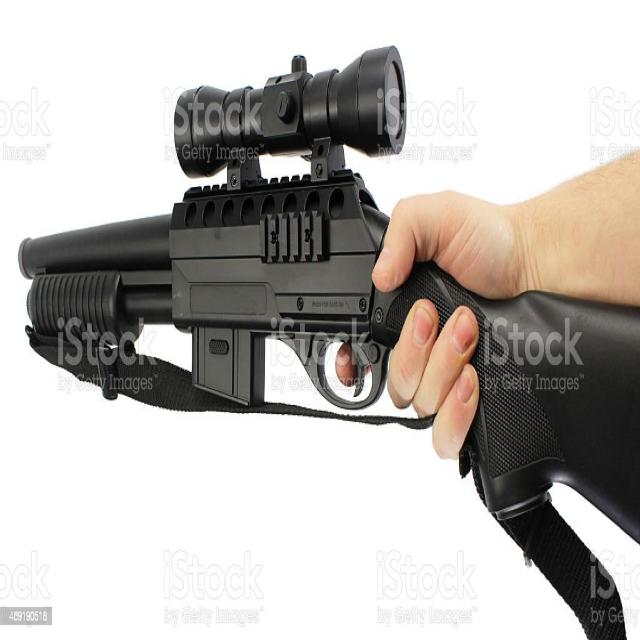ShotGun: (19, 47, 640, 548)
